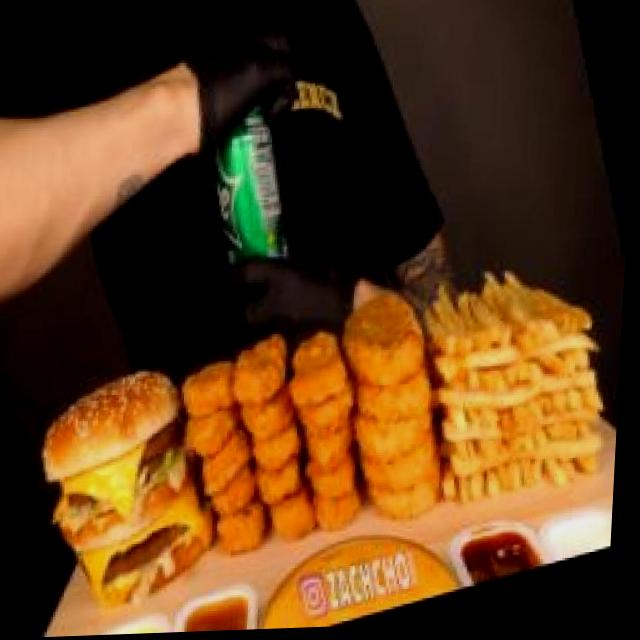Hashbrown: (317, 261, 482, 543)
burger: (20, 351, 240, 620)
french fries: (403, 236, 630, 533)
nugget: (169, 323, 394, 574)
